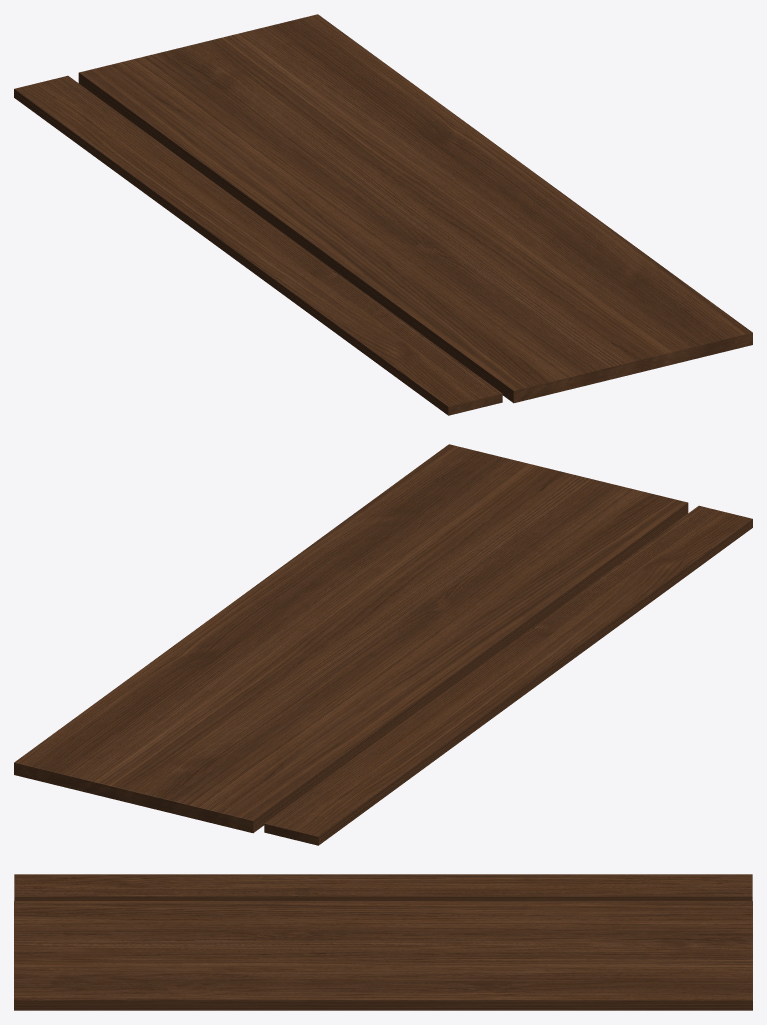
File: executive.glb
The picture shows the model from 3 angles, top to bottom: view 1: azimuth 30°, elevation 25°; view 2: azimuth 150°, elevation 25°; view 3: azimuth 270°, elevation 25°; orthographic projection. The views are drawn at different scales.
Visible parts, largest first — view 1: Layer:3DTops; view 2: Layer:3DTops; view 3: Layer:3DTops.
Boxes of the visible parts, left/top/right/bottom form: Layer:3DTops: left=14, top=14, right=752, bottom=415; Layer:3DTops: left=14, top=444, right=752, bottom=845; Layer:3DTops: left=14, top=874, right=752, bottom=1010.
Bounding box in the file's own units: 0.646 × 0.025 × 1.6.
1 material, 1 textured.
